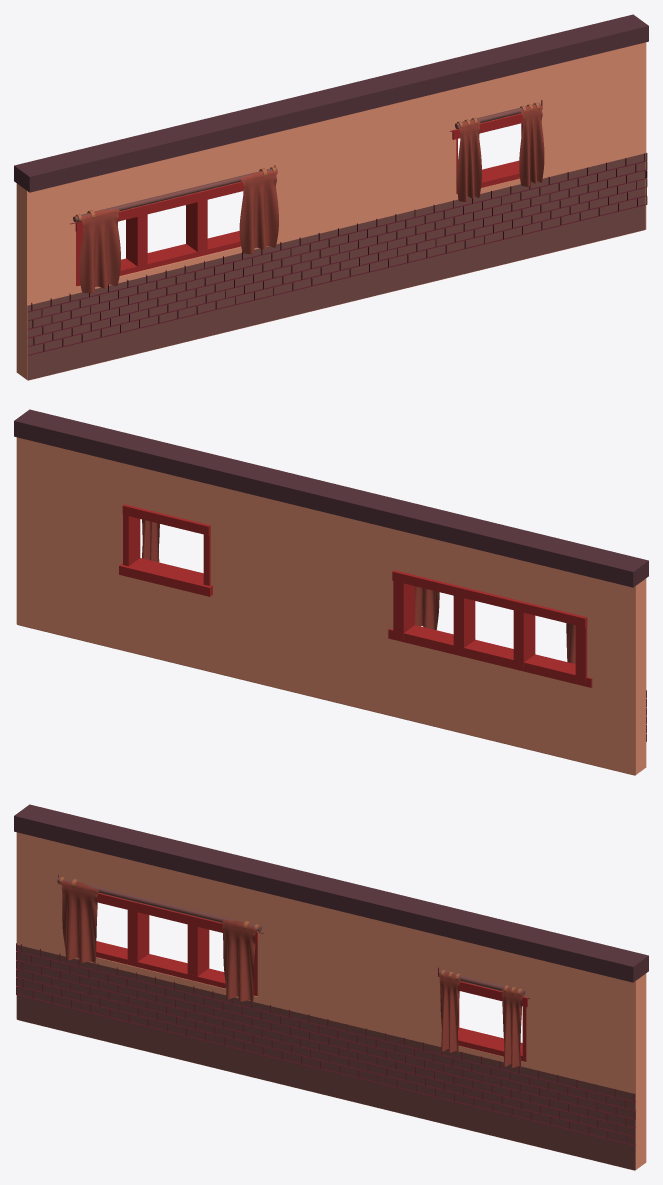
The model's file is parede-fundo.fbx.
The picture shows the model from 3 angles, top to bottom: view 1: azimuth 30°, elevation 25°; view 2: azimuth 150°, elevation 25°; view 3: azimuth 330°, elevation 25°; orthographic projection.
Visible parts, largest first — view 1: Cube.057; view 2: Cube.057; view 3: Cube.057.
Part boxes in pixels (x1,y1,x2,y2): Cube.057: (14, 14, 648, 380); Cube.057: (14, 409, 648, 775); Cube.057: (14, 804, 648, 1170).
Bounding box in the file's own units: 1300 × 413 × 77.48.
